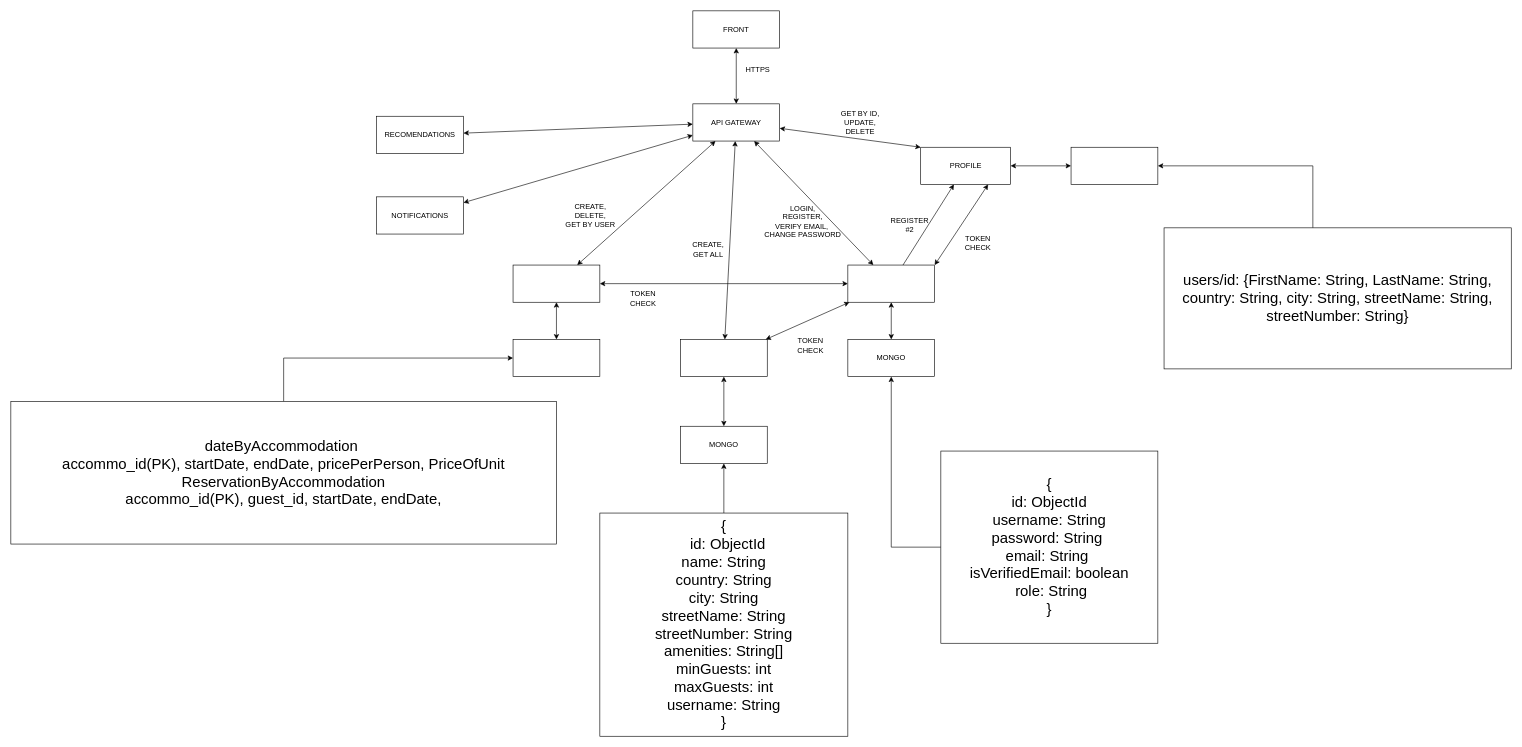
Image size: 1522x747. Some labels were removed from this diagram. Each missing label, with the centre of its shape:
ACCOMMODATIONS: pixel 723 358
AUTH: pixel 891 283
CASSANDRA: pixel 556 358
CONSUL: pixel 1114 165
RESERVATIONS: pixel 556 283
